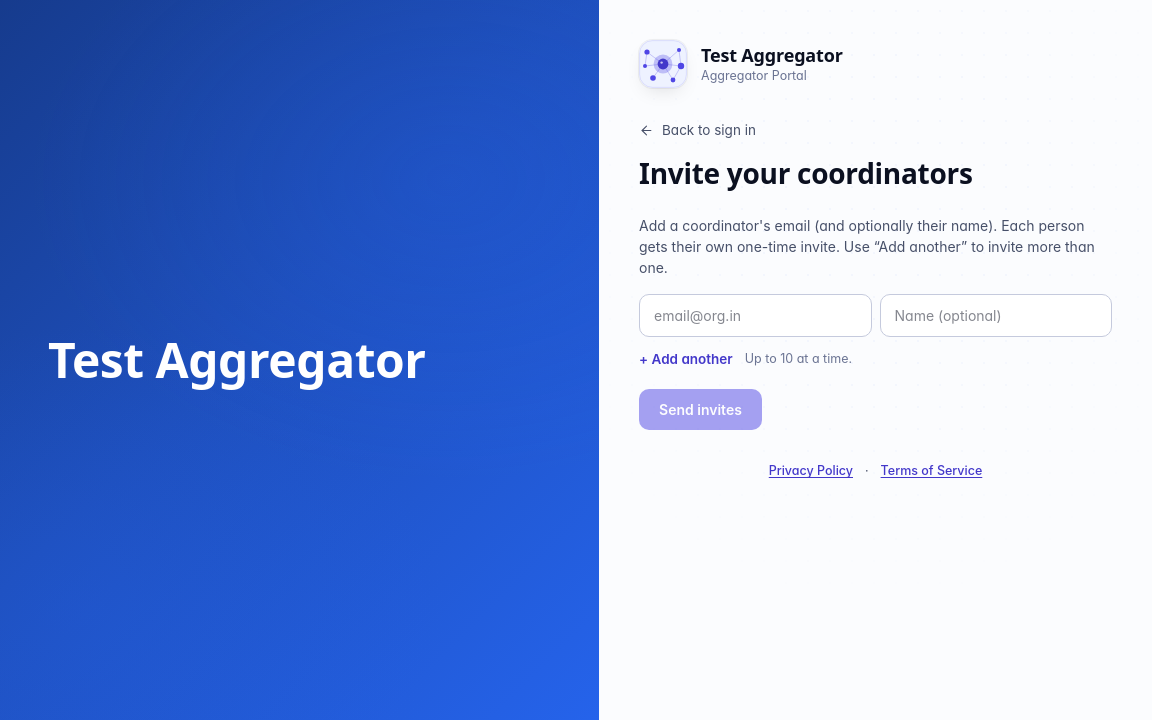
Test: <OwnerInviteView /> › shows the recovery banner when an expired grant re-mails a fresh link (recovered:true)
This screenshot has width=1152, height=720.
In the field with placeholder "email@org.in": {"x": 755, "y": 316} [639,294,872,337], type "a@x.org"
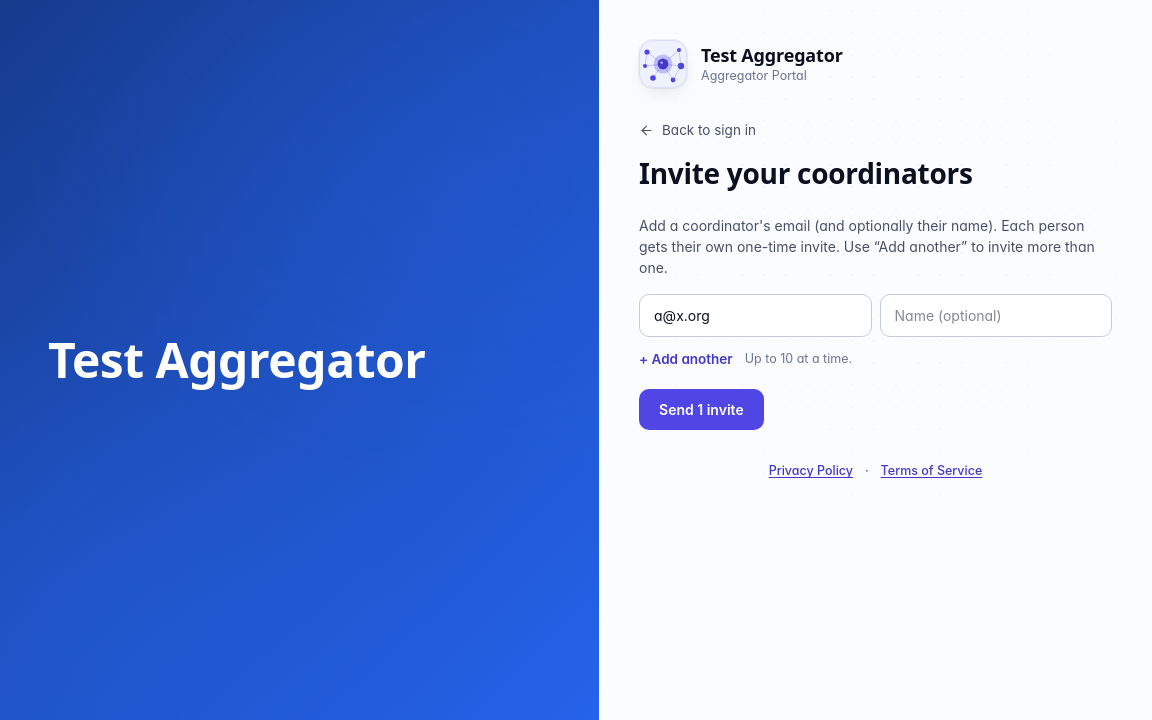
Click the button "Send 1 invite": {"x": 701, "y": 410} [639,389,764,430]
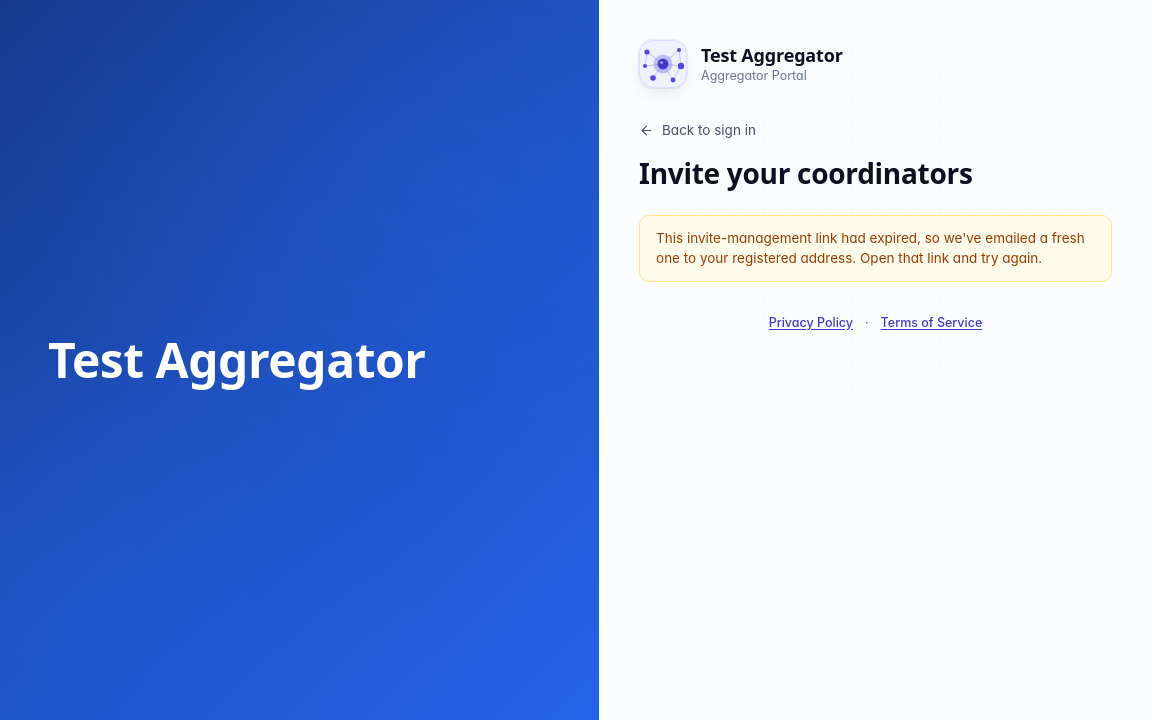
Now the text "had expired" is shown, box [656,230,1085,266]
